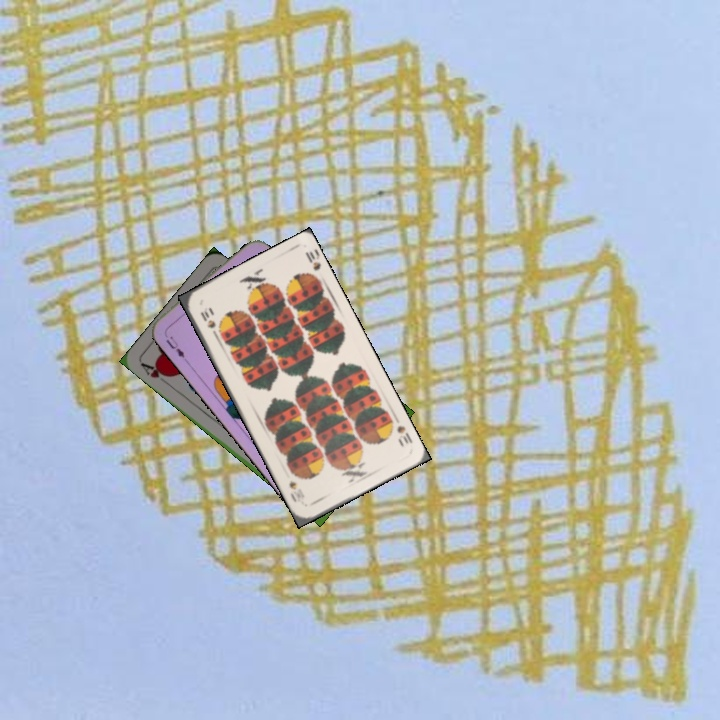EU: (162, 332, 190, 364)
HA: (137, 358, 173, 387)
S10: (196, 303, 220, 340), (393, 421, 415, 449)
